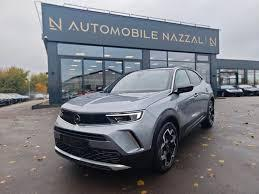opel: (72, 110, 81, 125)
